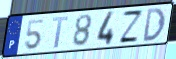4: (95, 10, 115, 48)
5: (23, 19, 45, 51)
8: (71, 13, 94, 47)
D: (142, 7, 166, 44)
T: (51, 15, 70, 50)
Z: (117, 9, 145, 44)
